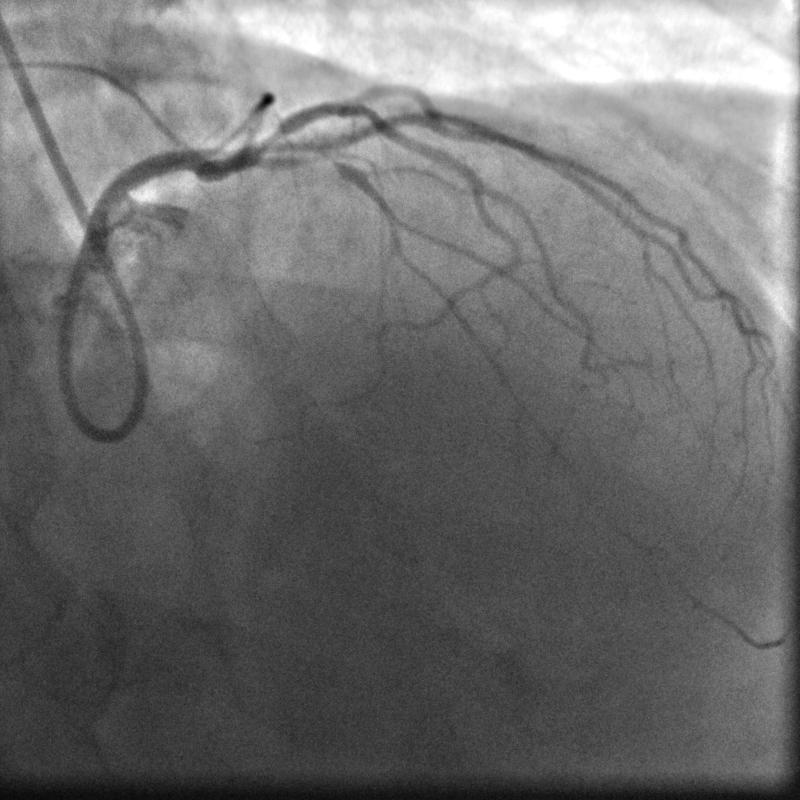Stenosis: (254, 125, 286, 156)
